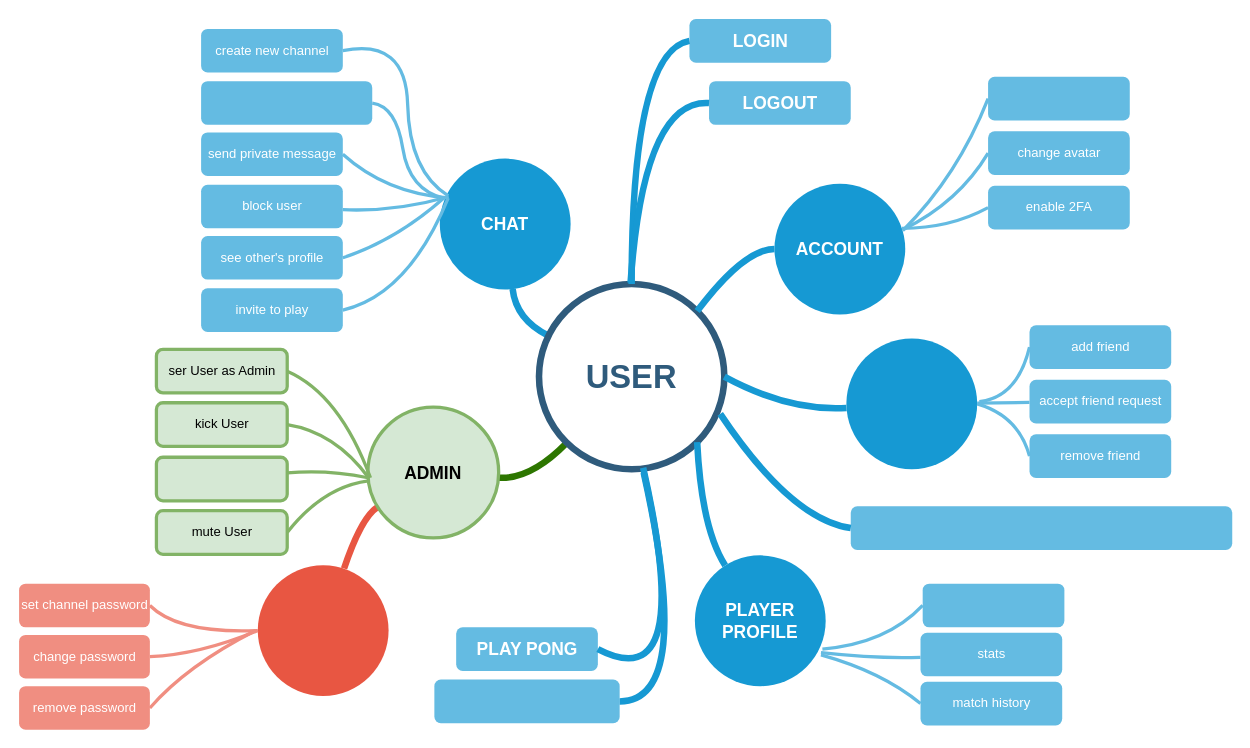
This 1250x748 diagram has some shape labels left out. The shapes that lost their labels are listed below. From the top down, each one's centre as x and y in pixels, then its label:
the point at 286,102: send message in channel
the point at 1058,98: change username
the point at 911,403: FRIEND Management
the point at 221,478: ban User
the point at 1041,527: SEE FRIENDS CONNECTIONS STATUS
the point at 993,605: connection status
the point at 322,630: CHANNEL OWNER
the point at 526,701: LEAVE THE QUEUE
